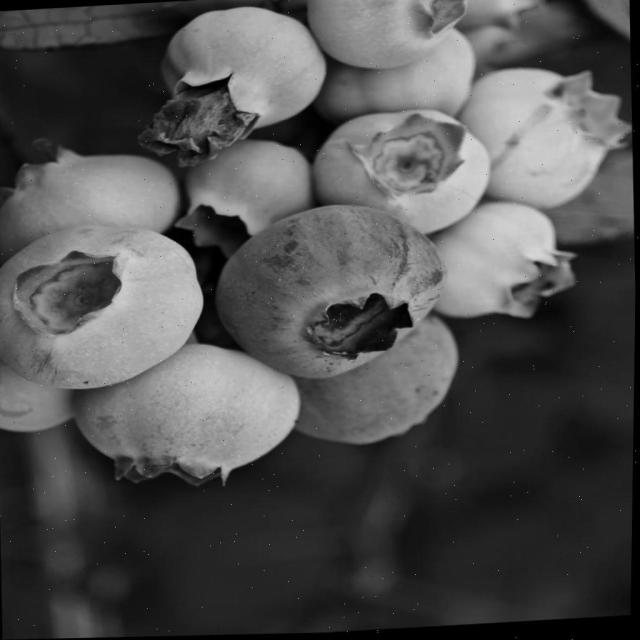Semi-RipeBlueBerry: (223, 202, 452, 376), (284, 320, 463, 452)
UnripeBlueBerry: (0, 224, 209, 396), (72, 344, 304, 488), (469, 63, 617, 213), (164, 3, 320, 137), (0, 143, 184, 253), (317, 108, 492, 214), (429, 202, 572, 328), (173, 134, 317, 244), (303, 0, 463, 77)
